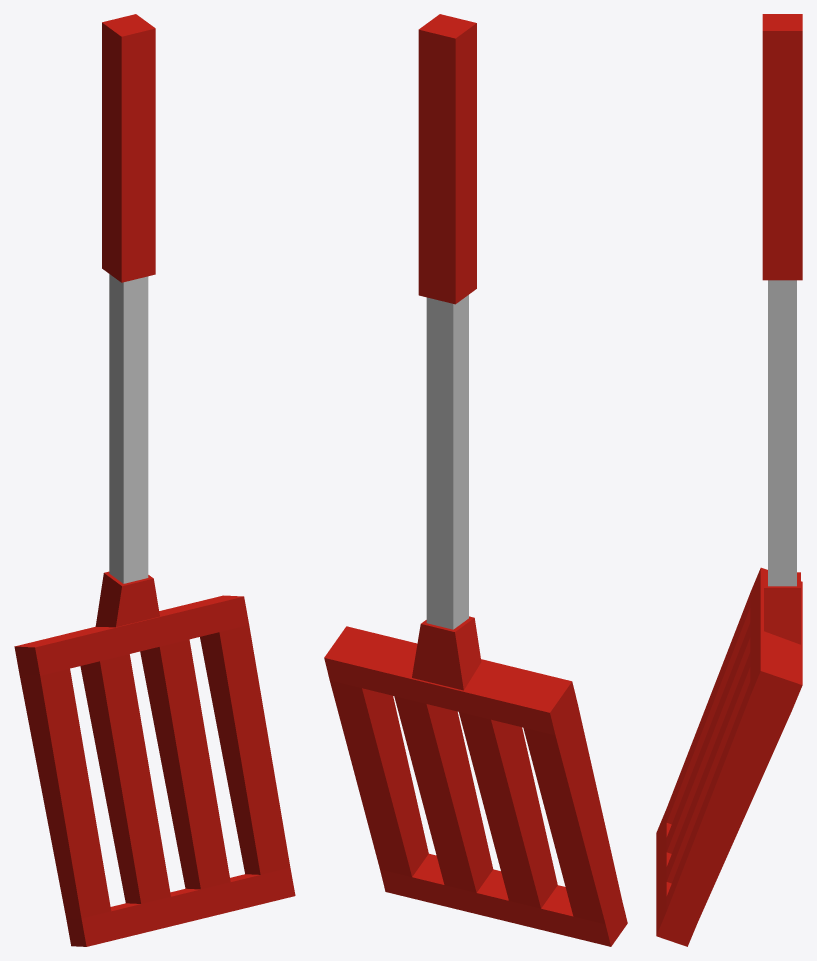
File: fritterTender4_PLY.fbx
3 views of the same model, side by side, from view 1: azimuth 30°, elevation 25°; view 2: azimuth 150°, elevation 25°; view 3: azimuth 270°, elevation 25° (orthographic). The views are drawn at different scales.
Parts seen in each view (by area): view 1: fritterTender4_PLY; view 2: fritterTender4_PLY; view 3: fritterTender4_PLY.
Part boxes in pixels (<box>): fritterTender4_PLY: <box>14,14,295,946</box>; fritterTender4_PLY: <box>324,14,627,946</box>; fritterTender4_PLY: <box>656,14,802,946</box>.
Size of the model in its own units: 0.3784 by 1.49 by 0.2262.
